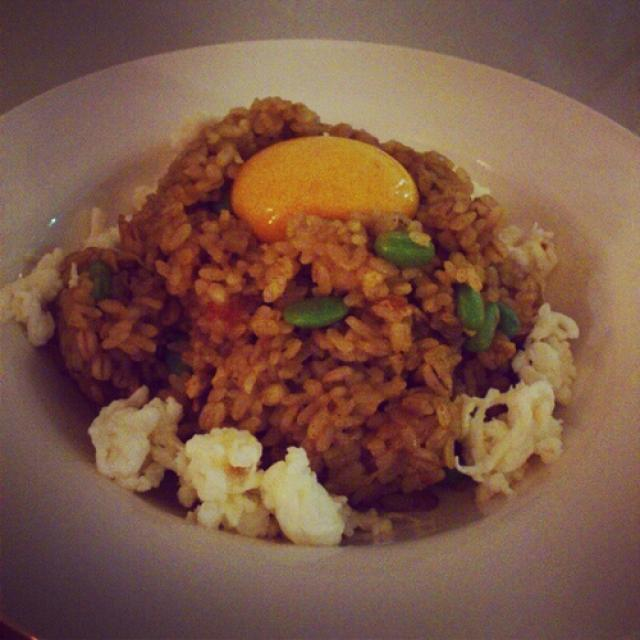寿司卷物: (64, 87, 515, 589)
